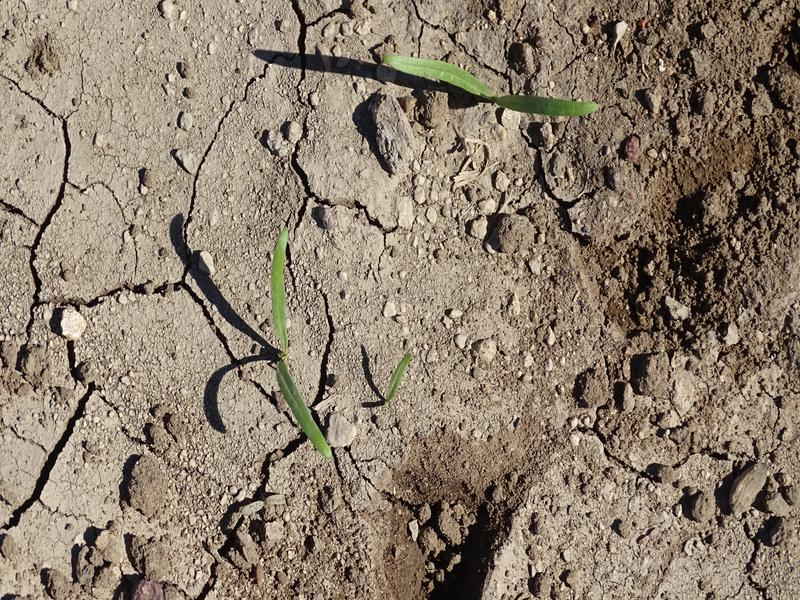Espinaca: (244, 222, 347, 459), (376, 49, 600, 125)
